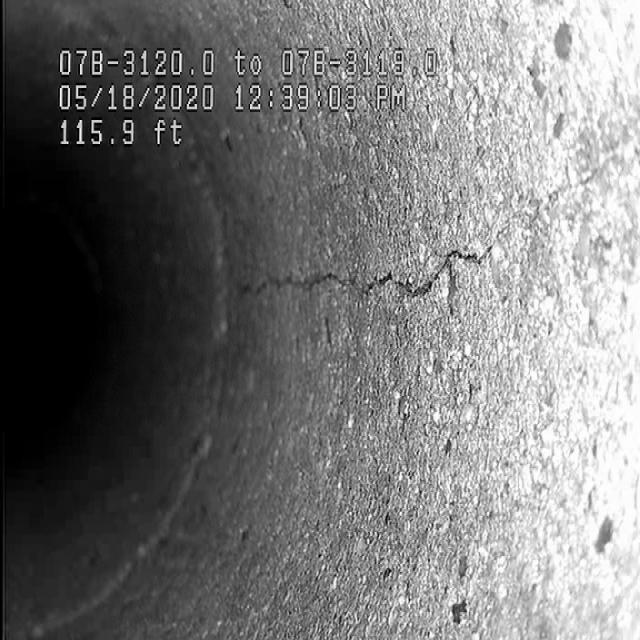Crack: (214, 185, 626, 402)
